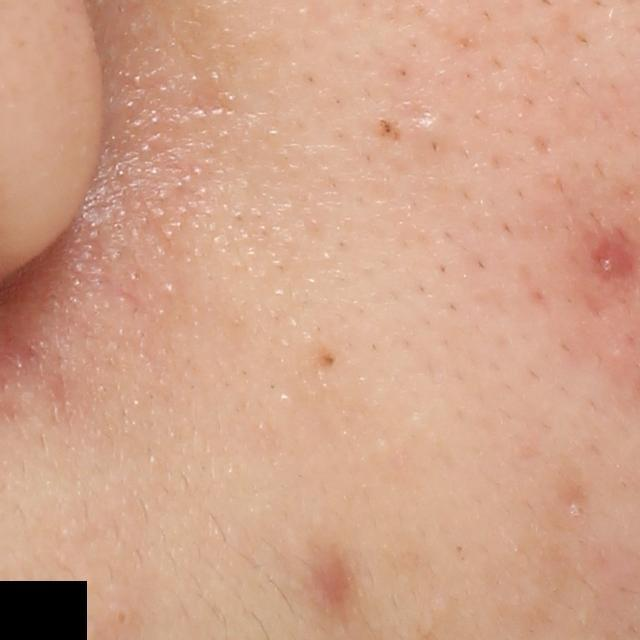atrophic_scar: (591, 241, 632, 281)
comedo: (402, 114, 453, 156), (105, 602, 140, 634)
